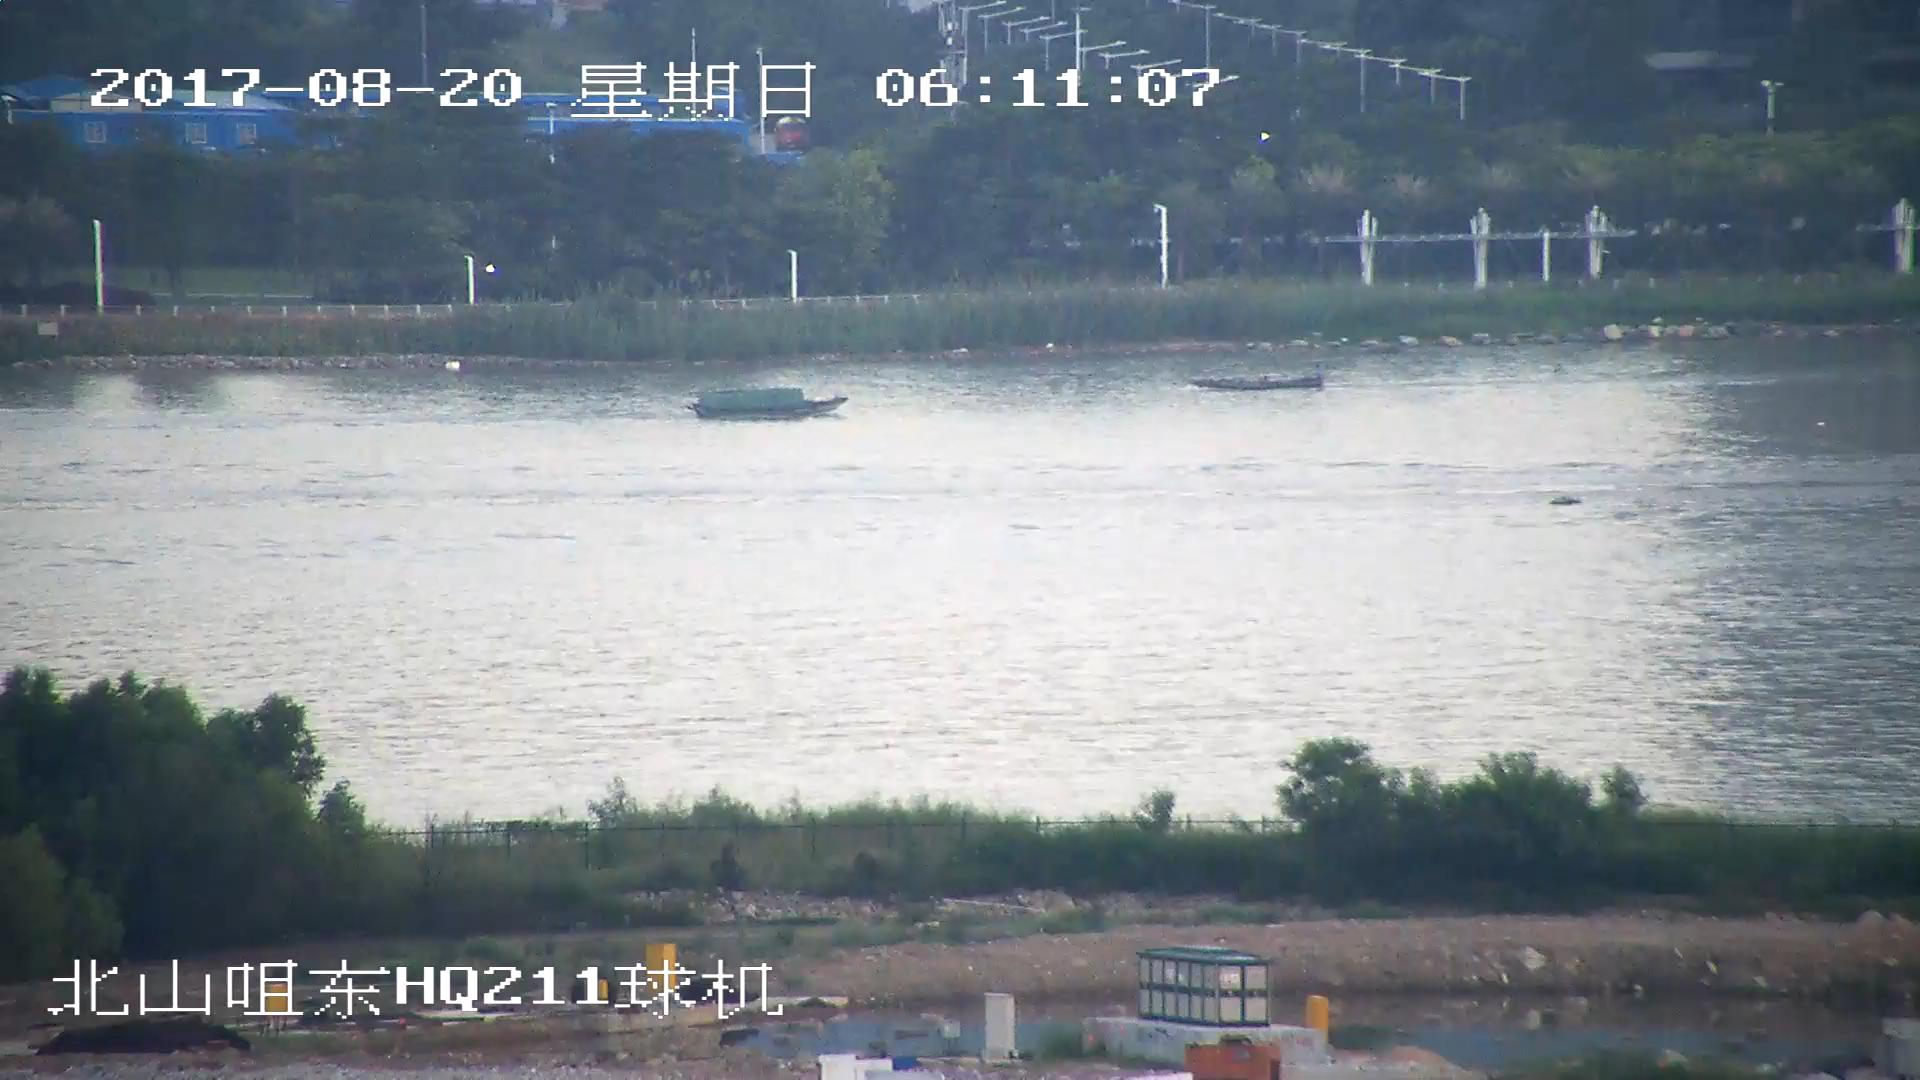fishing boat: (695, 385, 846, 415), (1193, 370, 1323, 391)
